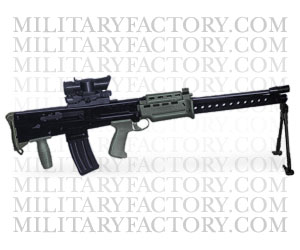rifle: (10, 78, 291, 193)
